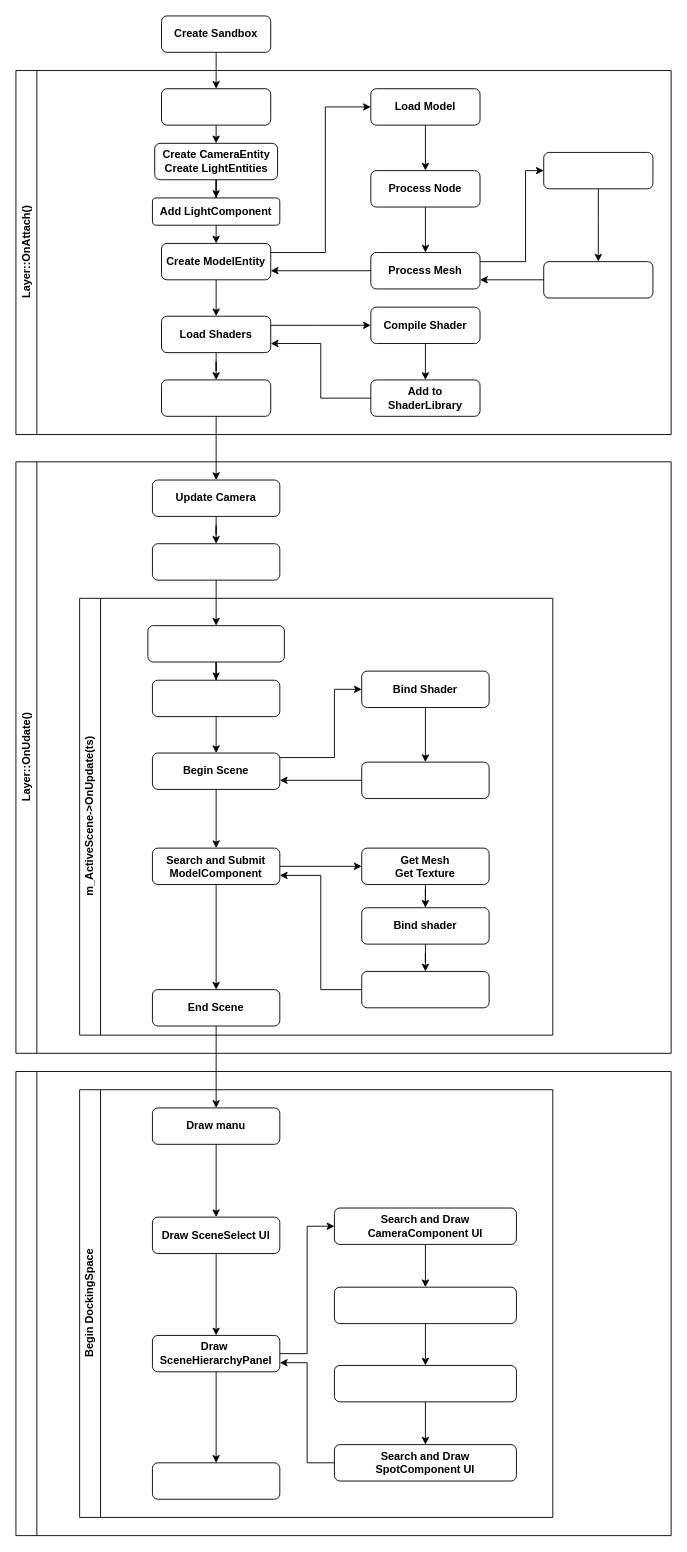
The diagram is 687 pixels wide and 1552 high, and some of its shapes have lost their labels. Each missing label, with the box of its shape:
Bind FrameBuffer: (152, 543, 280, 580)
Create FrameBuffer: (161, 379, 271, 416)
Create Textures: (543, 261, 653, 298)
Draw Model: (361, 971, 489, 1008)
Draw ViewPort: (152, 1462, 280, 1499)
Layer::OnImGuiRender(): (15, 1071, 671, 1536)
Load Material: (543, 152, 653, 189)
RenderCommand::Clear: (147, 625, 284, 662)
Search and Draw DirectionalLightComponent UI: (334, 1365, 516, 1402)
Search and Draw ModelComponent UI: (334, 1286, 516, 1324)
Search and update LightsComponents: (152, 679, 280, 717)
Set ActiveScene init Renderer: (161, 88, 271, 125)
Set CameraData Set LightData: (361, 761, 489, 799)
